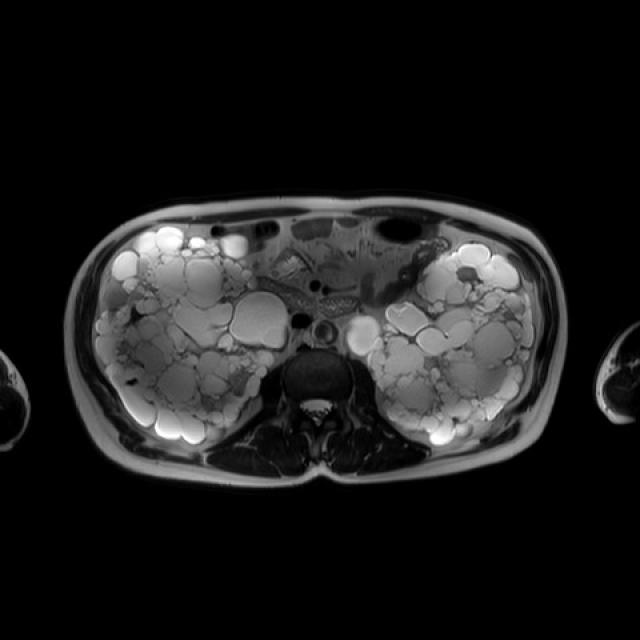sag: (95, 226, 294, 445)
sol: (344, 242, 534, 447)
